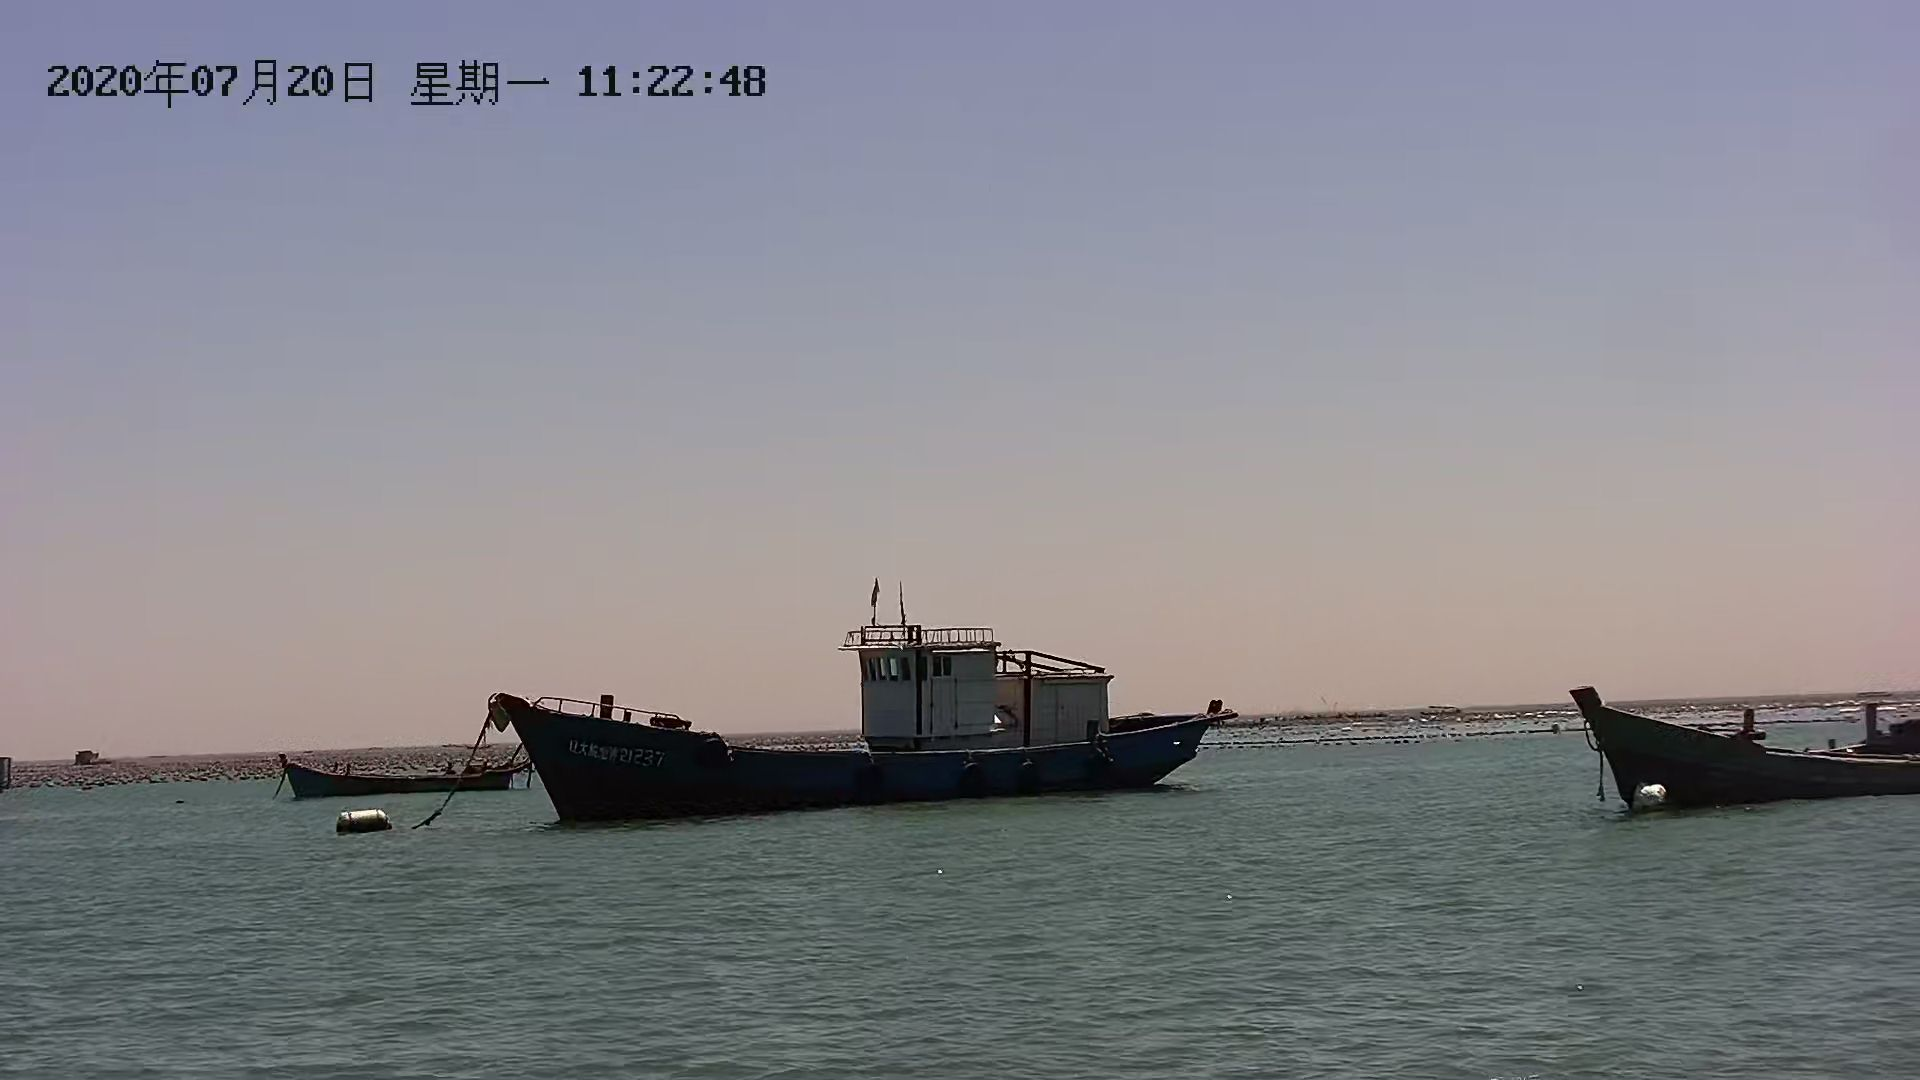ball: (327, 808, 394, 843)
boat: (497, 613, 1240, 811), (1555, 669, 1920, 824), (270, 756, 530, 800)
